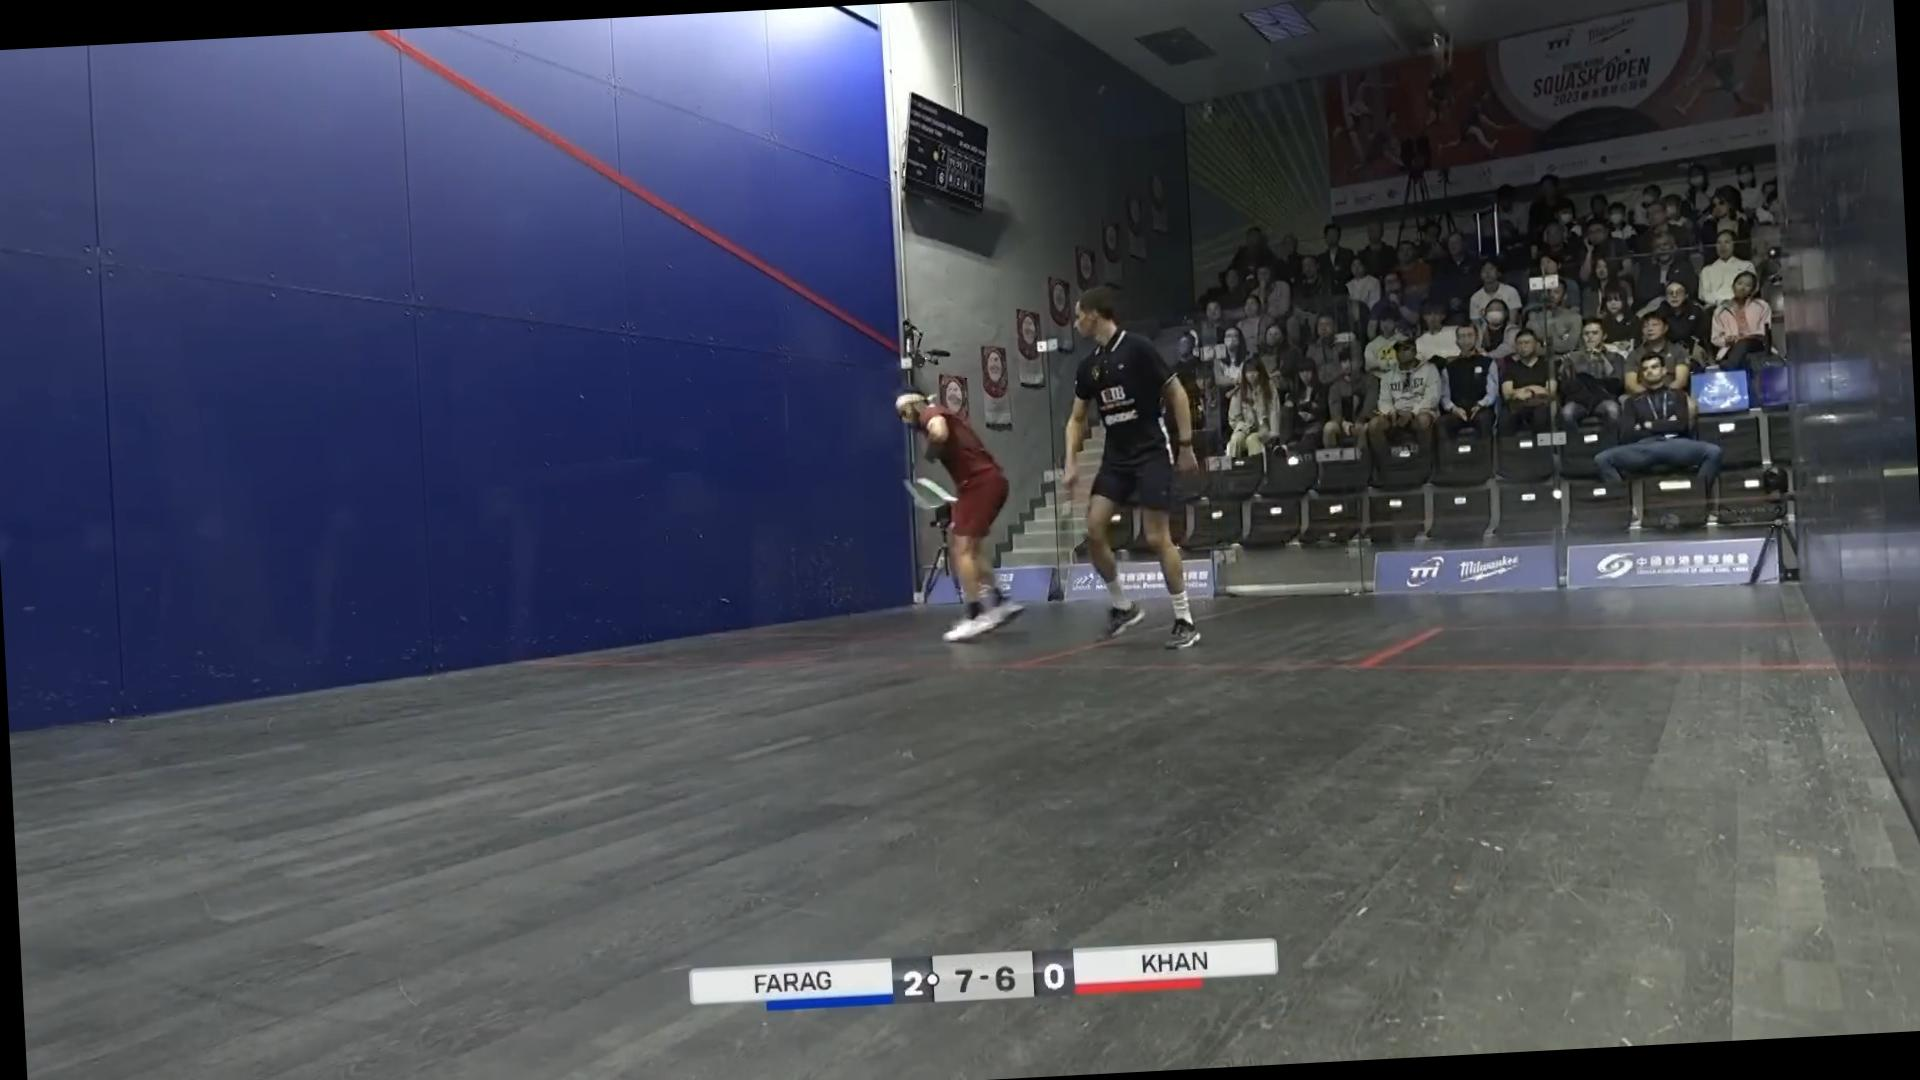Racket: (902, 472, 960, 520)
